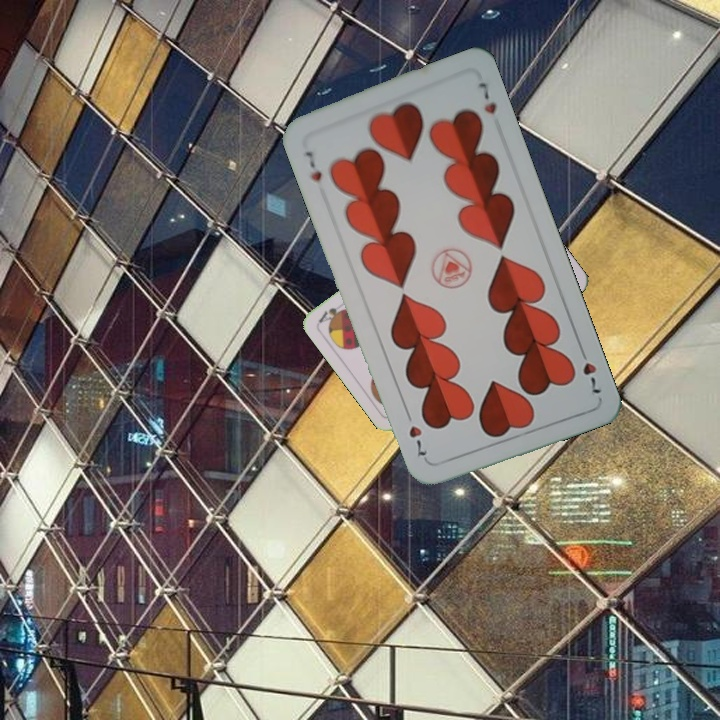H7: (575, 342, 604, 397), (301, 147, 325, 184)
